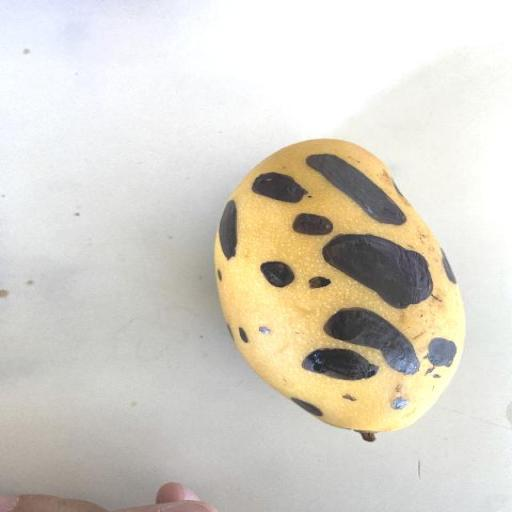mango-overripe: (176, 109, 485, 472)
